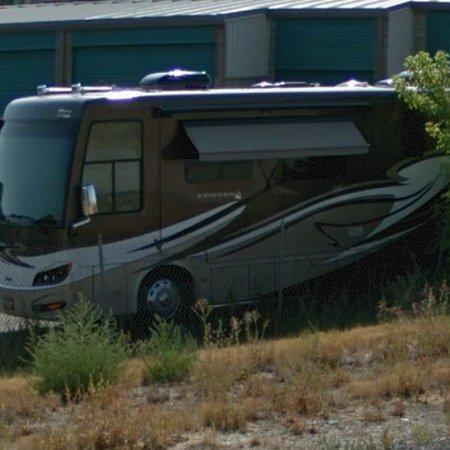buses: (0, 70, 450, 321)
